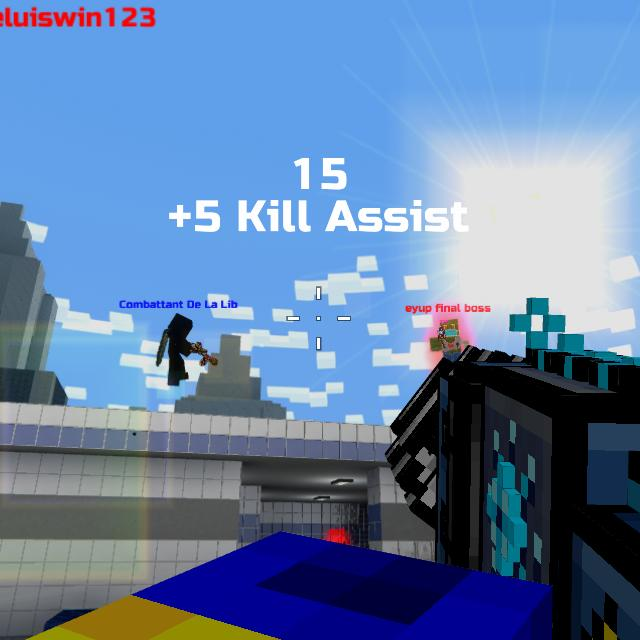Enemy: (430, 320, 470, 356)
